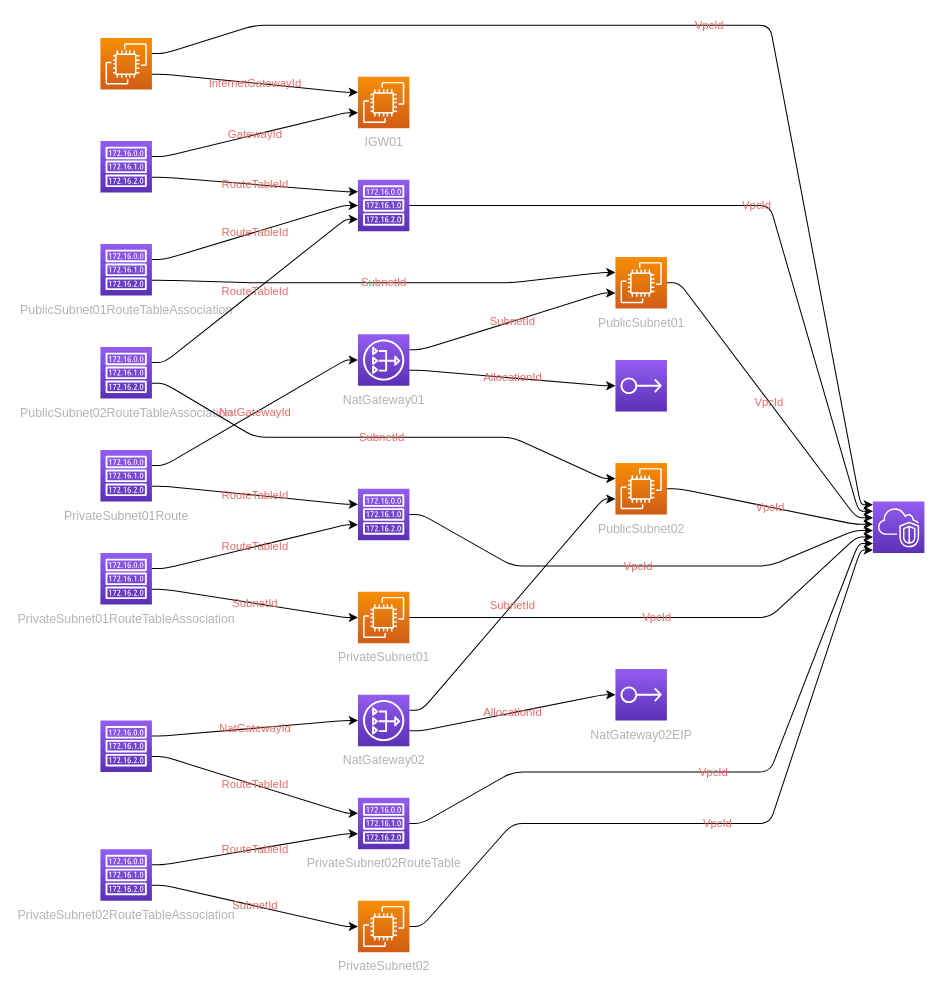
The diagram is 942 pixels wide and 992 high, and some of its shapes have lost their labels. Each missing label, with the centre of its shape:
"NatGateway01EIP" goes at (640,385).
"PrivateSubnet01RouteTable" goes at (383,514).
"PrivateSubnet02Route" goes at (125,745).
"PublicSubnetRoute" goes at (125,166).
"PublicSubnetRouteTable" goes at (383,205).
"VPC01" goes at (898,527).
"VPCGWA01" goes at (125,63).
